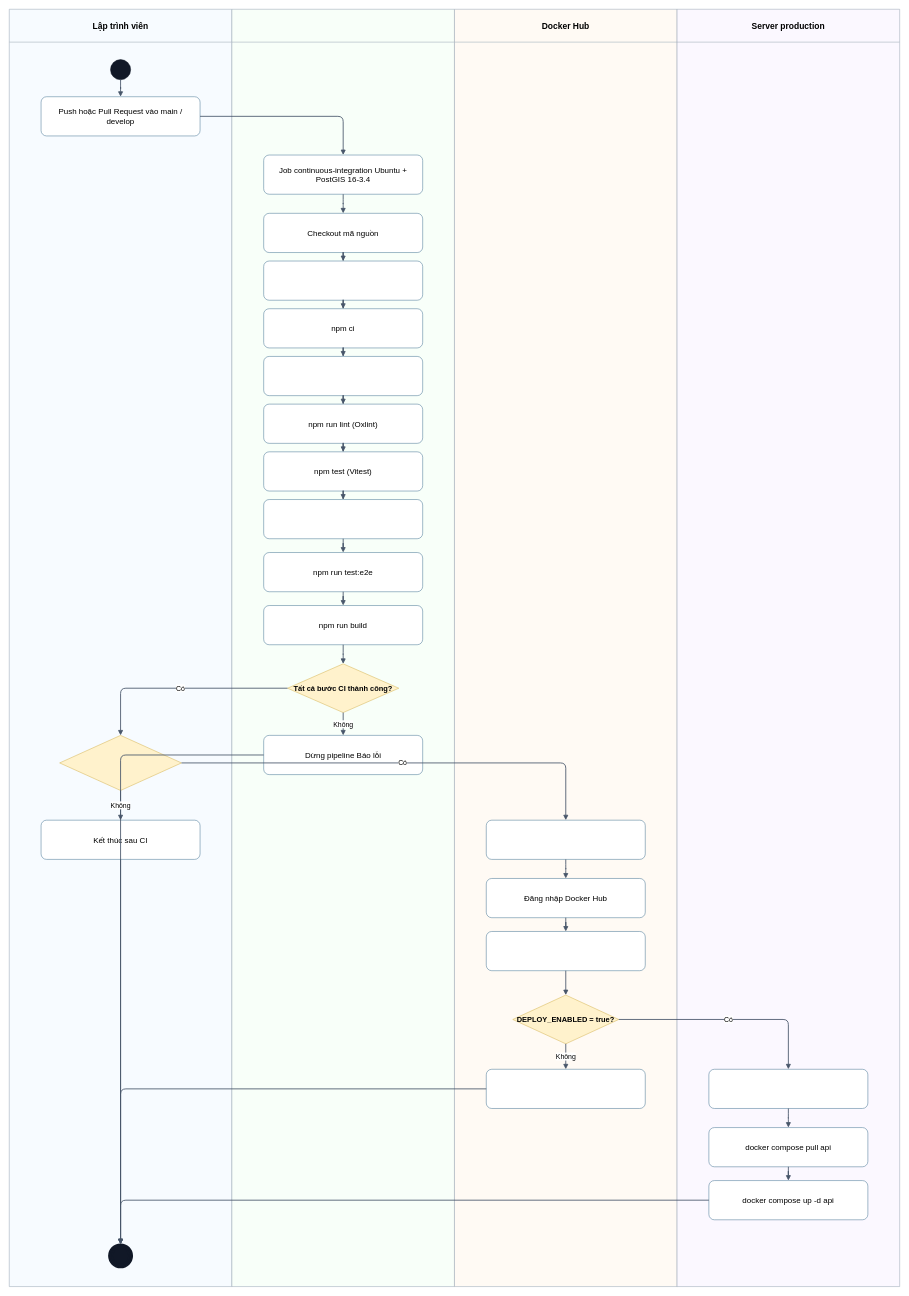
Image size: 909x1296. Some labels were removed from this diagram. Each missing label, with the box of its shape:
Build image từ thư mục backend Đẩy tag latest và commit SHA: (486, 931, 645, 971)
Cài Node.js 20: (263, 260, 423, 300)
GitHub Actions (CI/CD): (231, 9, 454, 1287)
Job continuous-delivery: (486, 820, 645, 859)
Không triển khai production: (486, 1069, 645, 1108)
Kết nối SSH tới server: (708, 1069, 868, 1108)
npm run prisma:generate: (263, 356, 423, 396)
prisma migrate deploy lên DB kiểm thử PostGIS: (263, 499, 423, 539)
Sự kiện là push vào main (không phải Pull Request)?: (59, 735, 182, 790)
